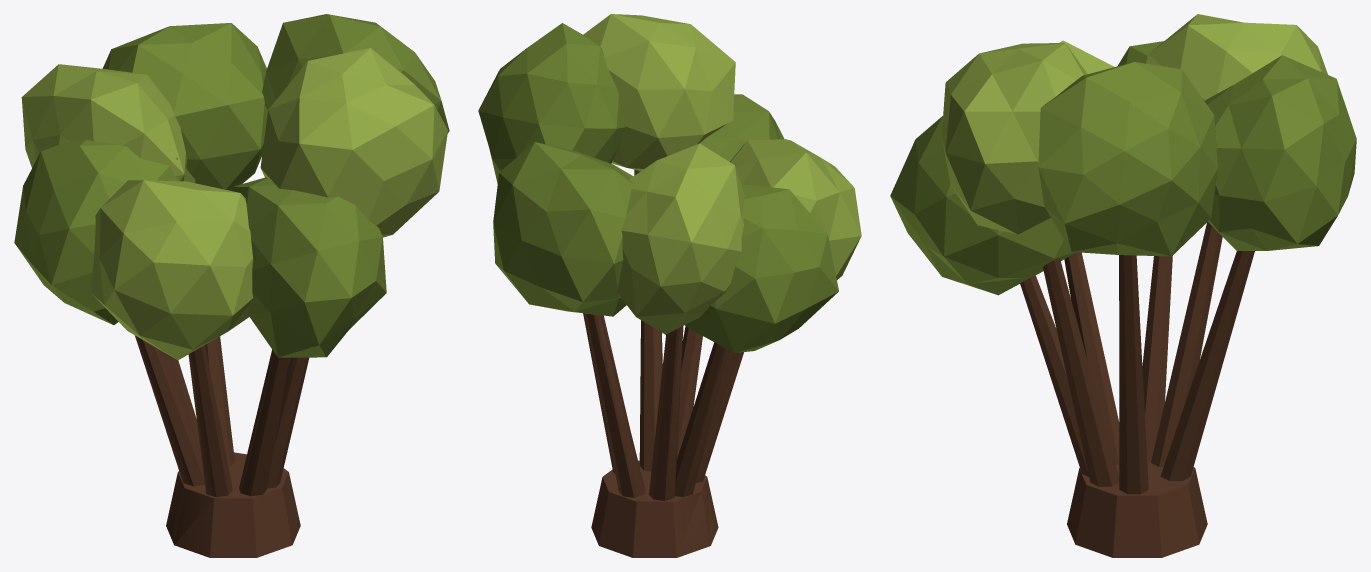
The model's file is 267_coppice_hazel.fbx.
3 views of the same model, side by side, from view 1: azimuth 30°, elevation 25°; view 2: azimuth 150°, elevation 25°; view 3: azimuth 270°, elevation 25° (orthographic). The views are drawn at different scales.
Parts seen in each view (by area): view 1: 267_coppice_hazel; view 2: 267_coppice_hazel; view 3: 267_coppice_hazel.
Part boxes in pixels (x1,y1,x2,y2): 267_coppice_hazel: (14,14,449,557); 267_coppice_hazel: (478,14,861,557); 267_coppice_hazel: (890,14,1356,557).
Size of the model in its own units: 2.12 by 2.71 by 2.22.
Materials: 1 (1 with a texture image).
